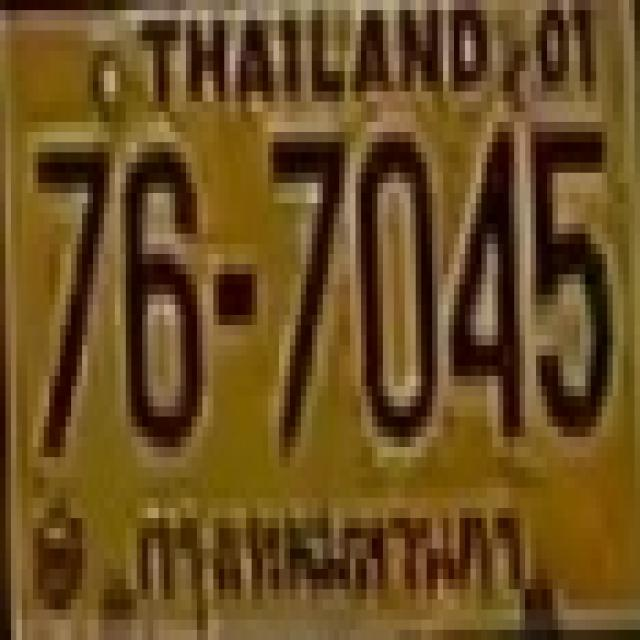0: (356, 122, 432, 437)
4: (448, 122, 520, 427)
5: (525, 122, 607, 427)
6: (120, 142, 197, 437)
7: (268, 127, 345, 442), (268, 127, 345, 411), (33, 137, 104, 442)
BKK: (129, 499, 532, 614)
